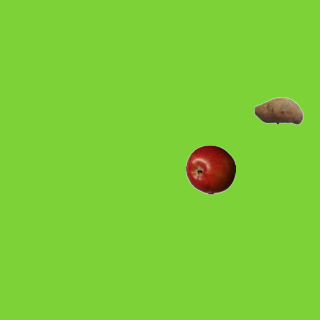Apple Braeburn: (185, 144, 235, 194)
Potato Sweet: (253, 85, 303, 135)
